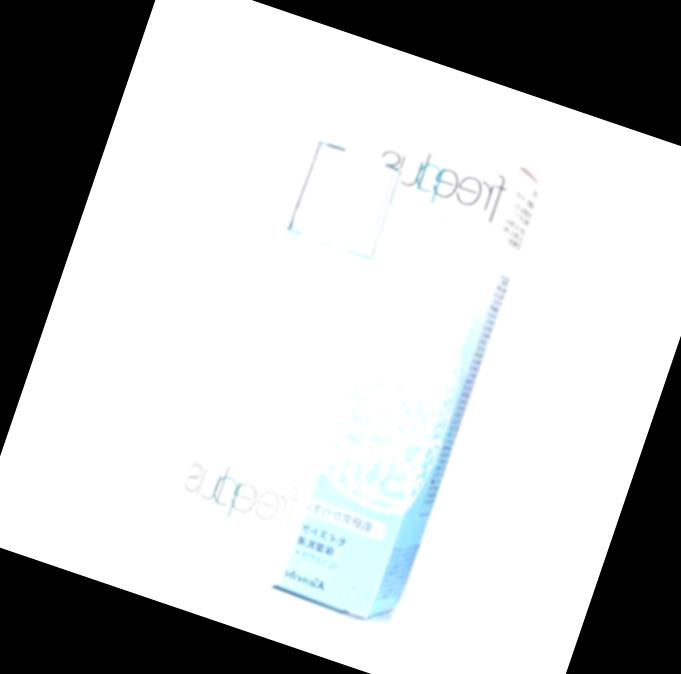cosmetic: (151, 129, 424, 596)
